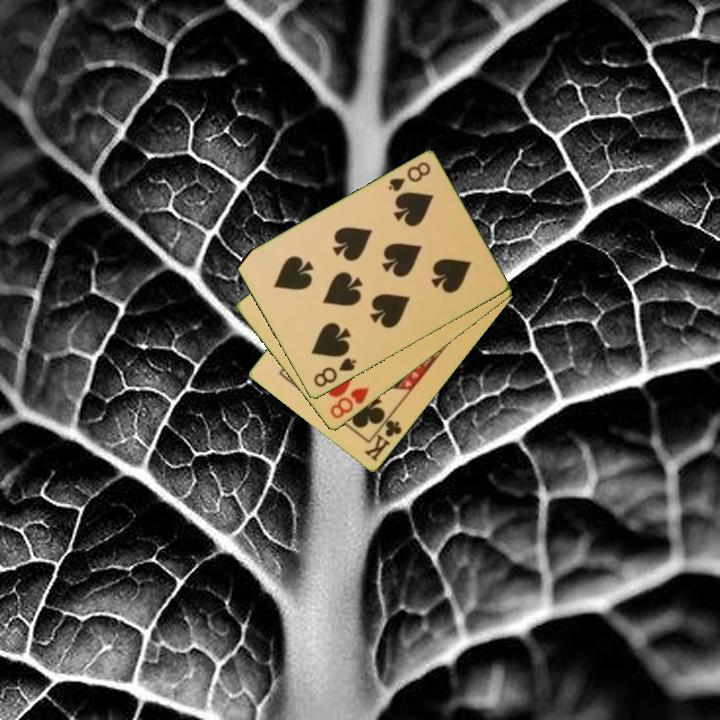8h: (326, 384, 372, 422)
8s: (310, 354, 359, 391), (384, 158, 433, 195)
Kc: (361, 411, 405, 465)
